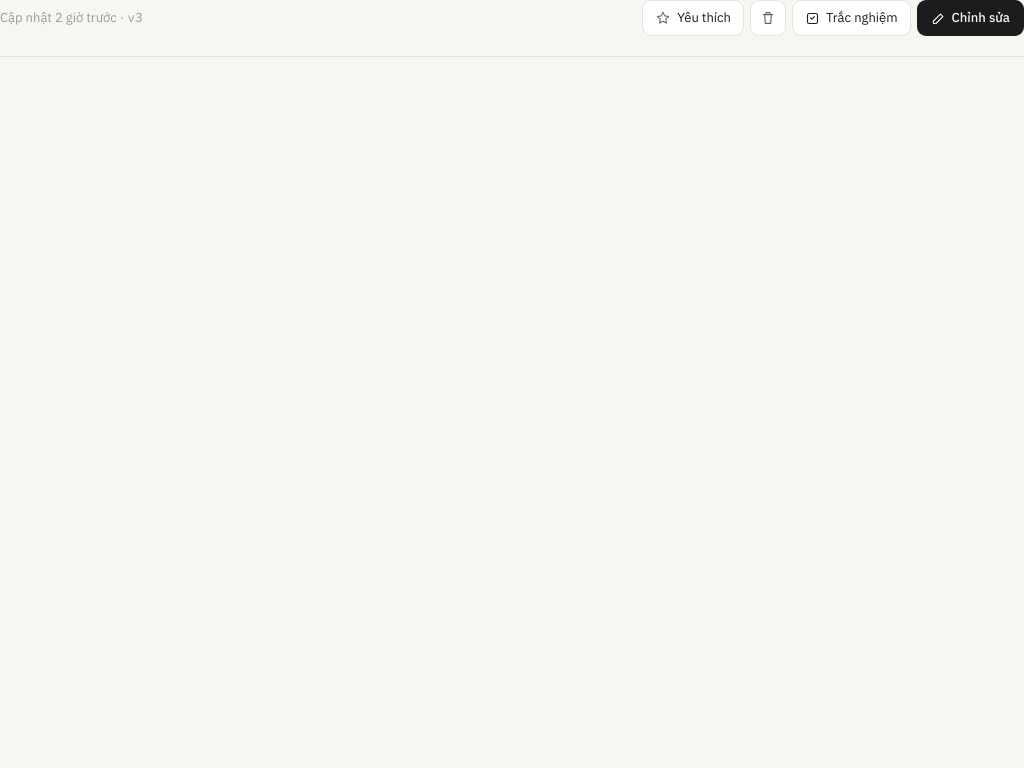
DetailActions › asks for confirmation inline before deleting, and Huỷ cancels
Click the button named "Xoá" at point(768, 18), box [750, 0, 786, 36]
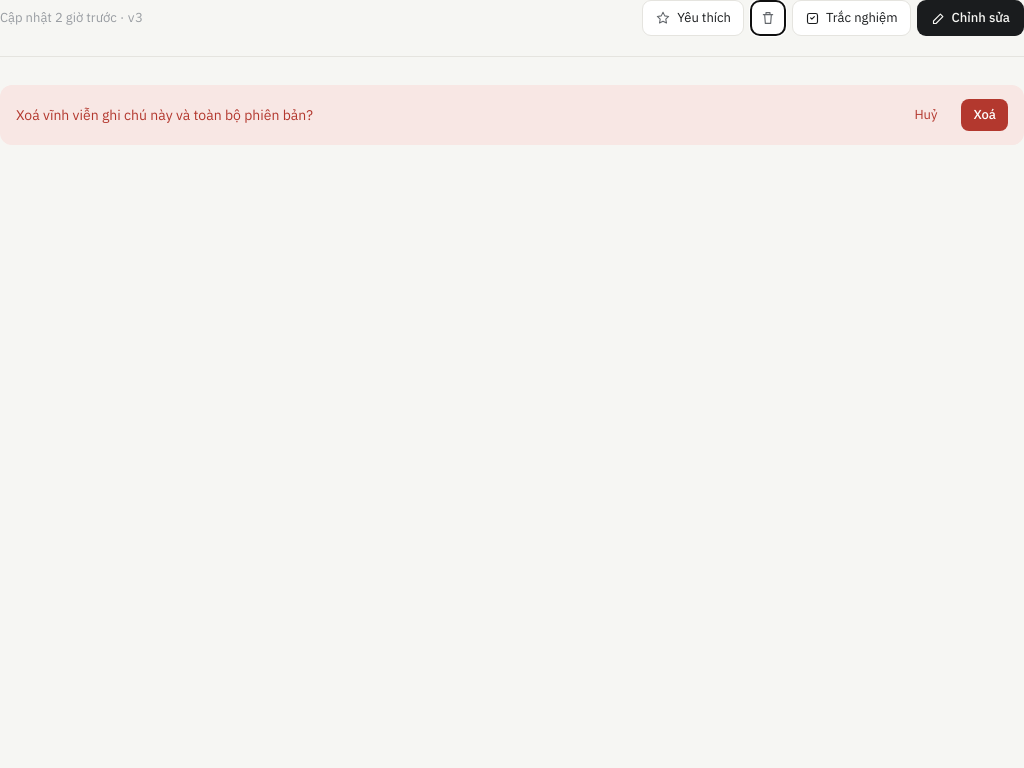
Result: the text "Xoá vĩnh viễn ghi chú này và toàn bộ phiên bản?" is shown at [16, 106, 313, 124]
Click the button "Huỷ" at point(926, 115), box [902, 99, 950, 131]
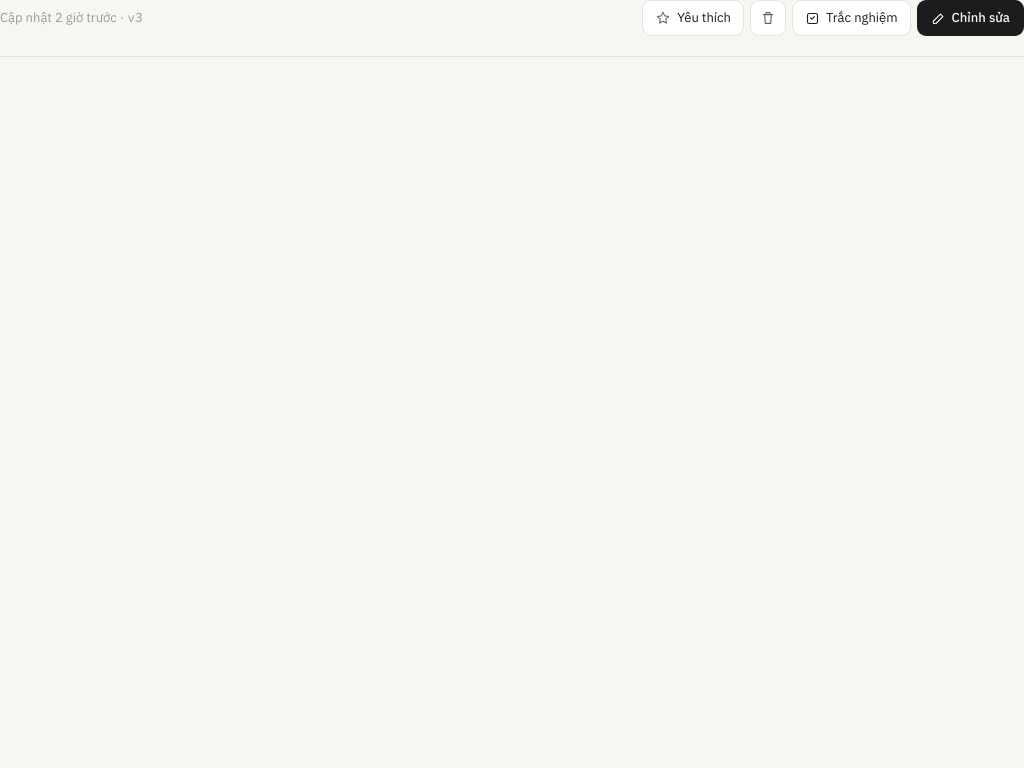
Result: the text "Xoá vĩnh viễn ghi chú này và toàn bộ phiên bản?" is gone
